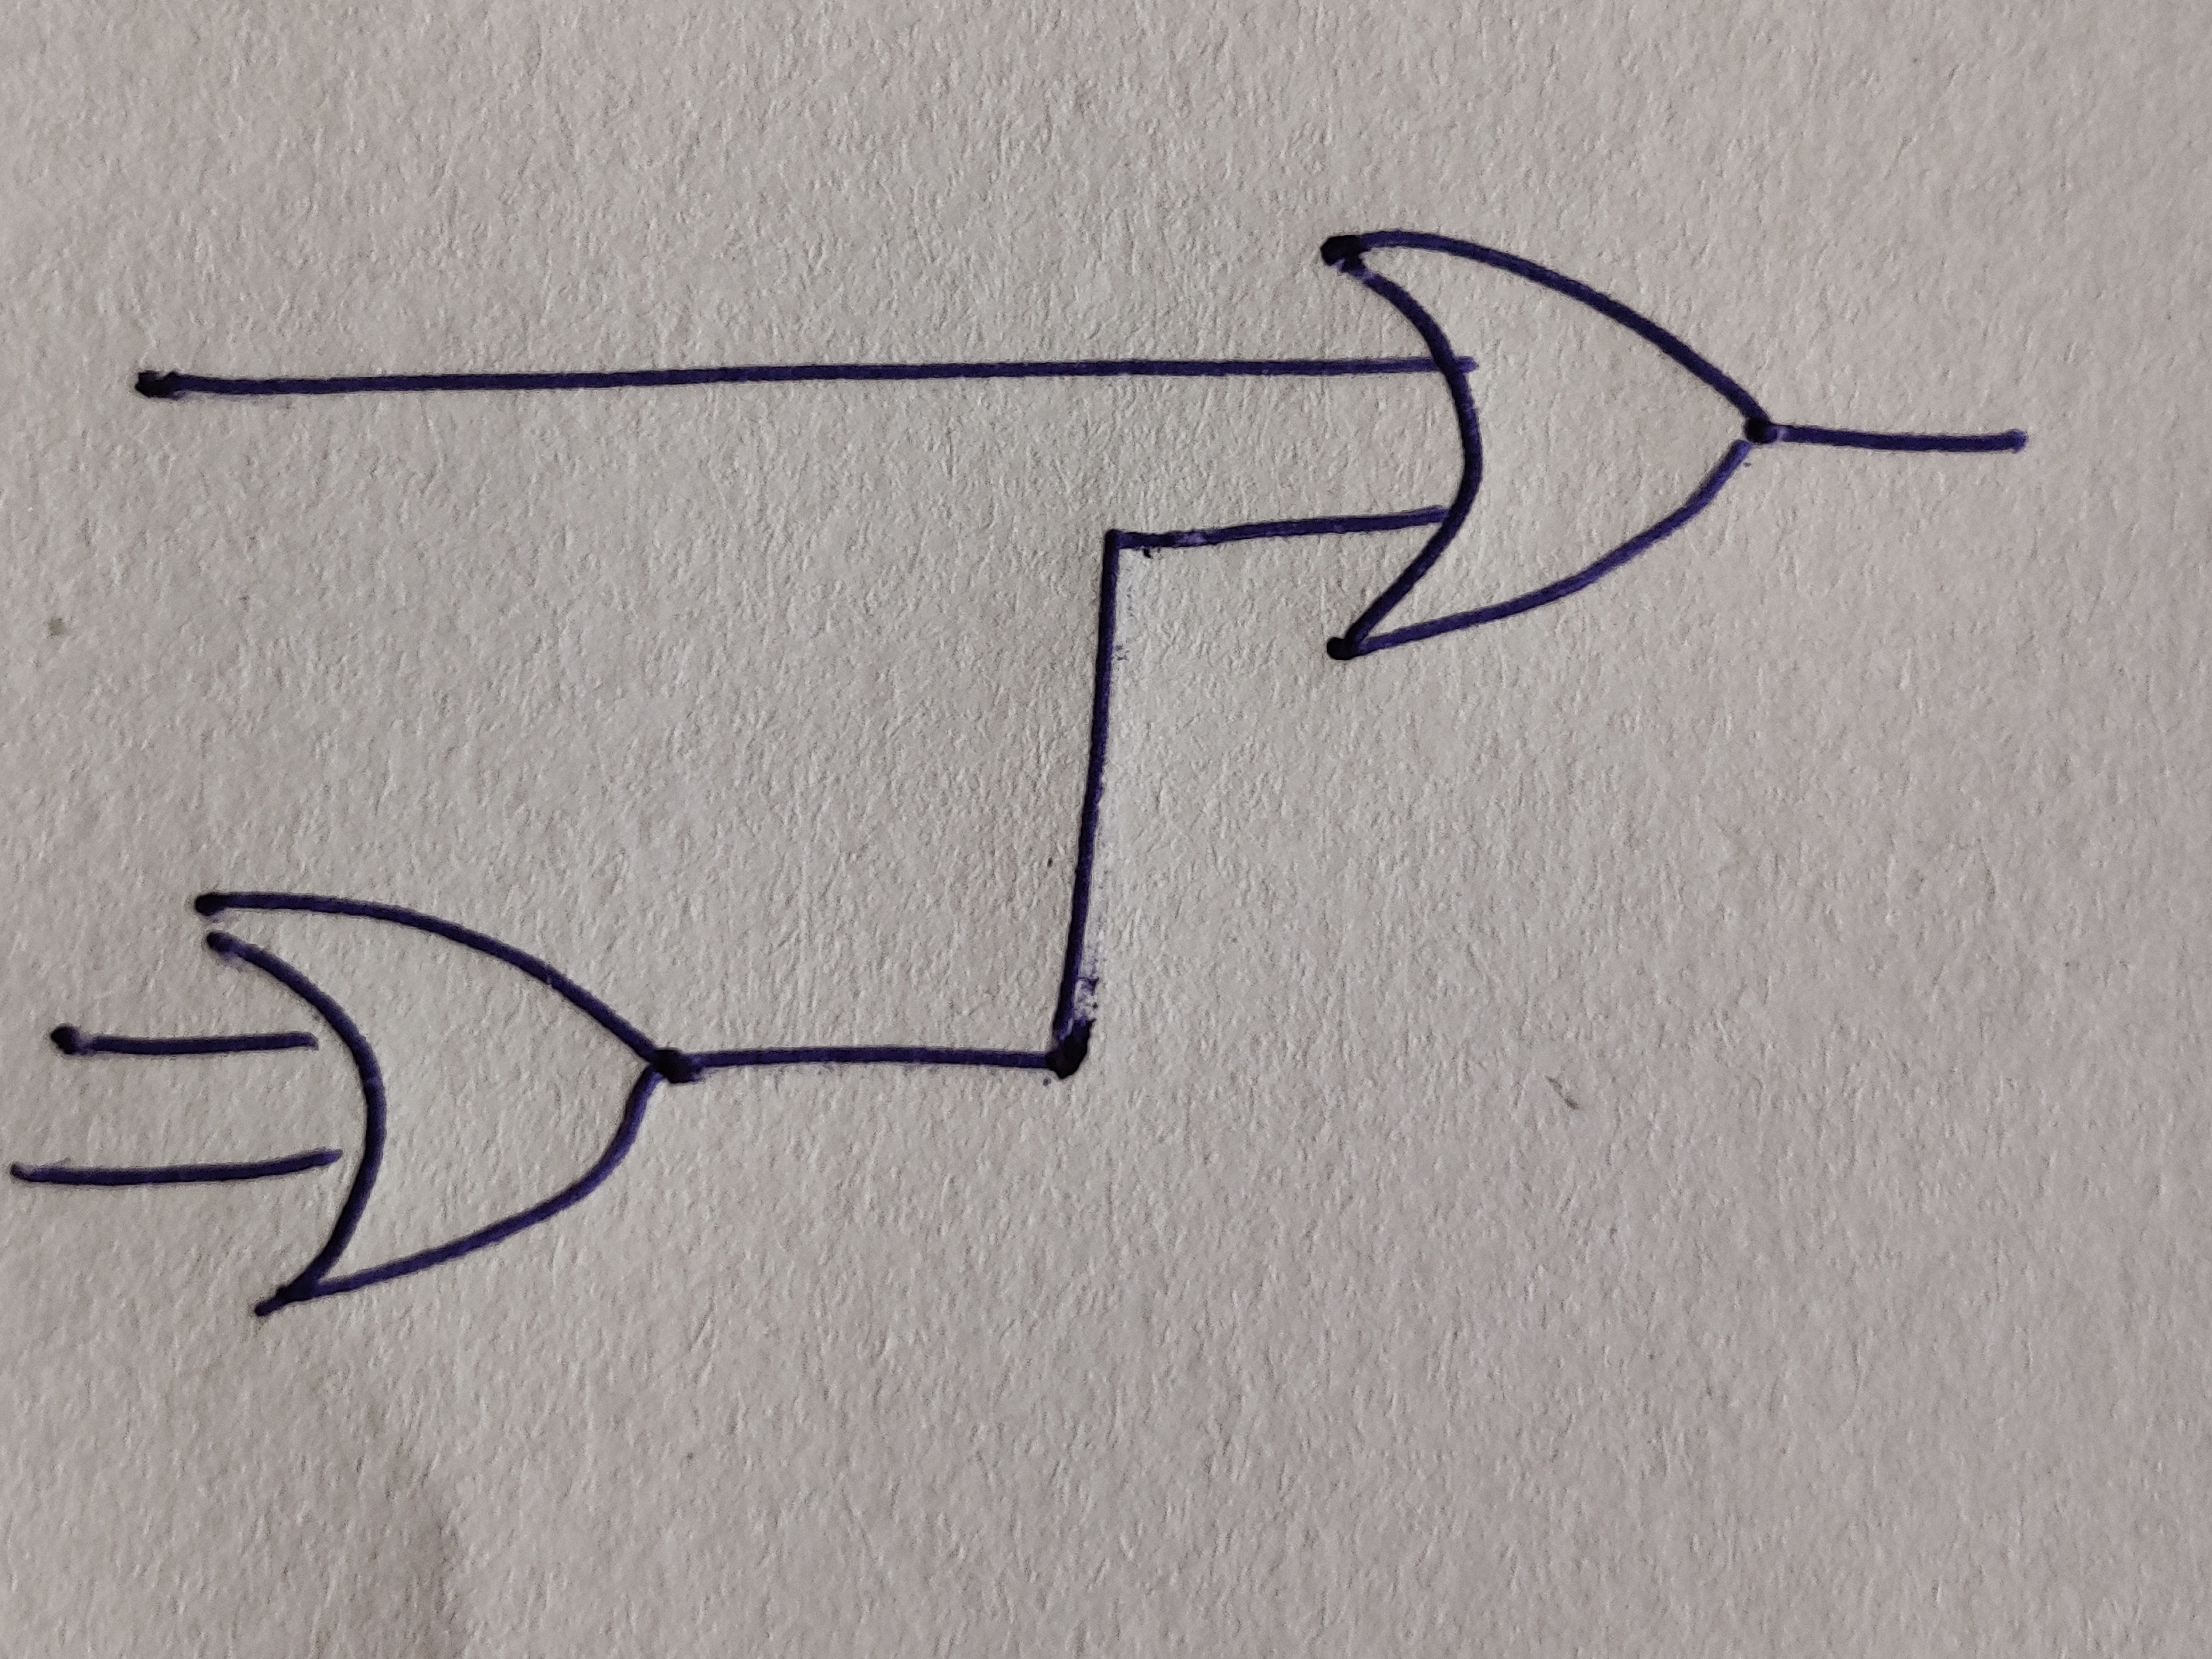or: (192, 889, 676, 1316), (1320, 227, 1778, 660)
